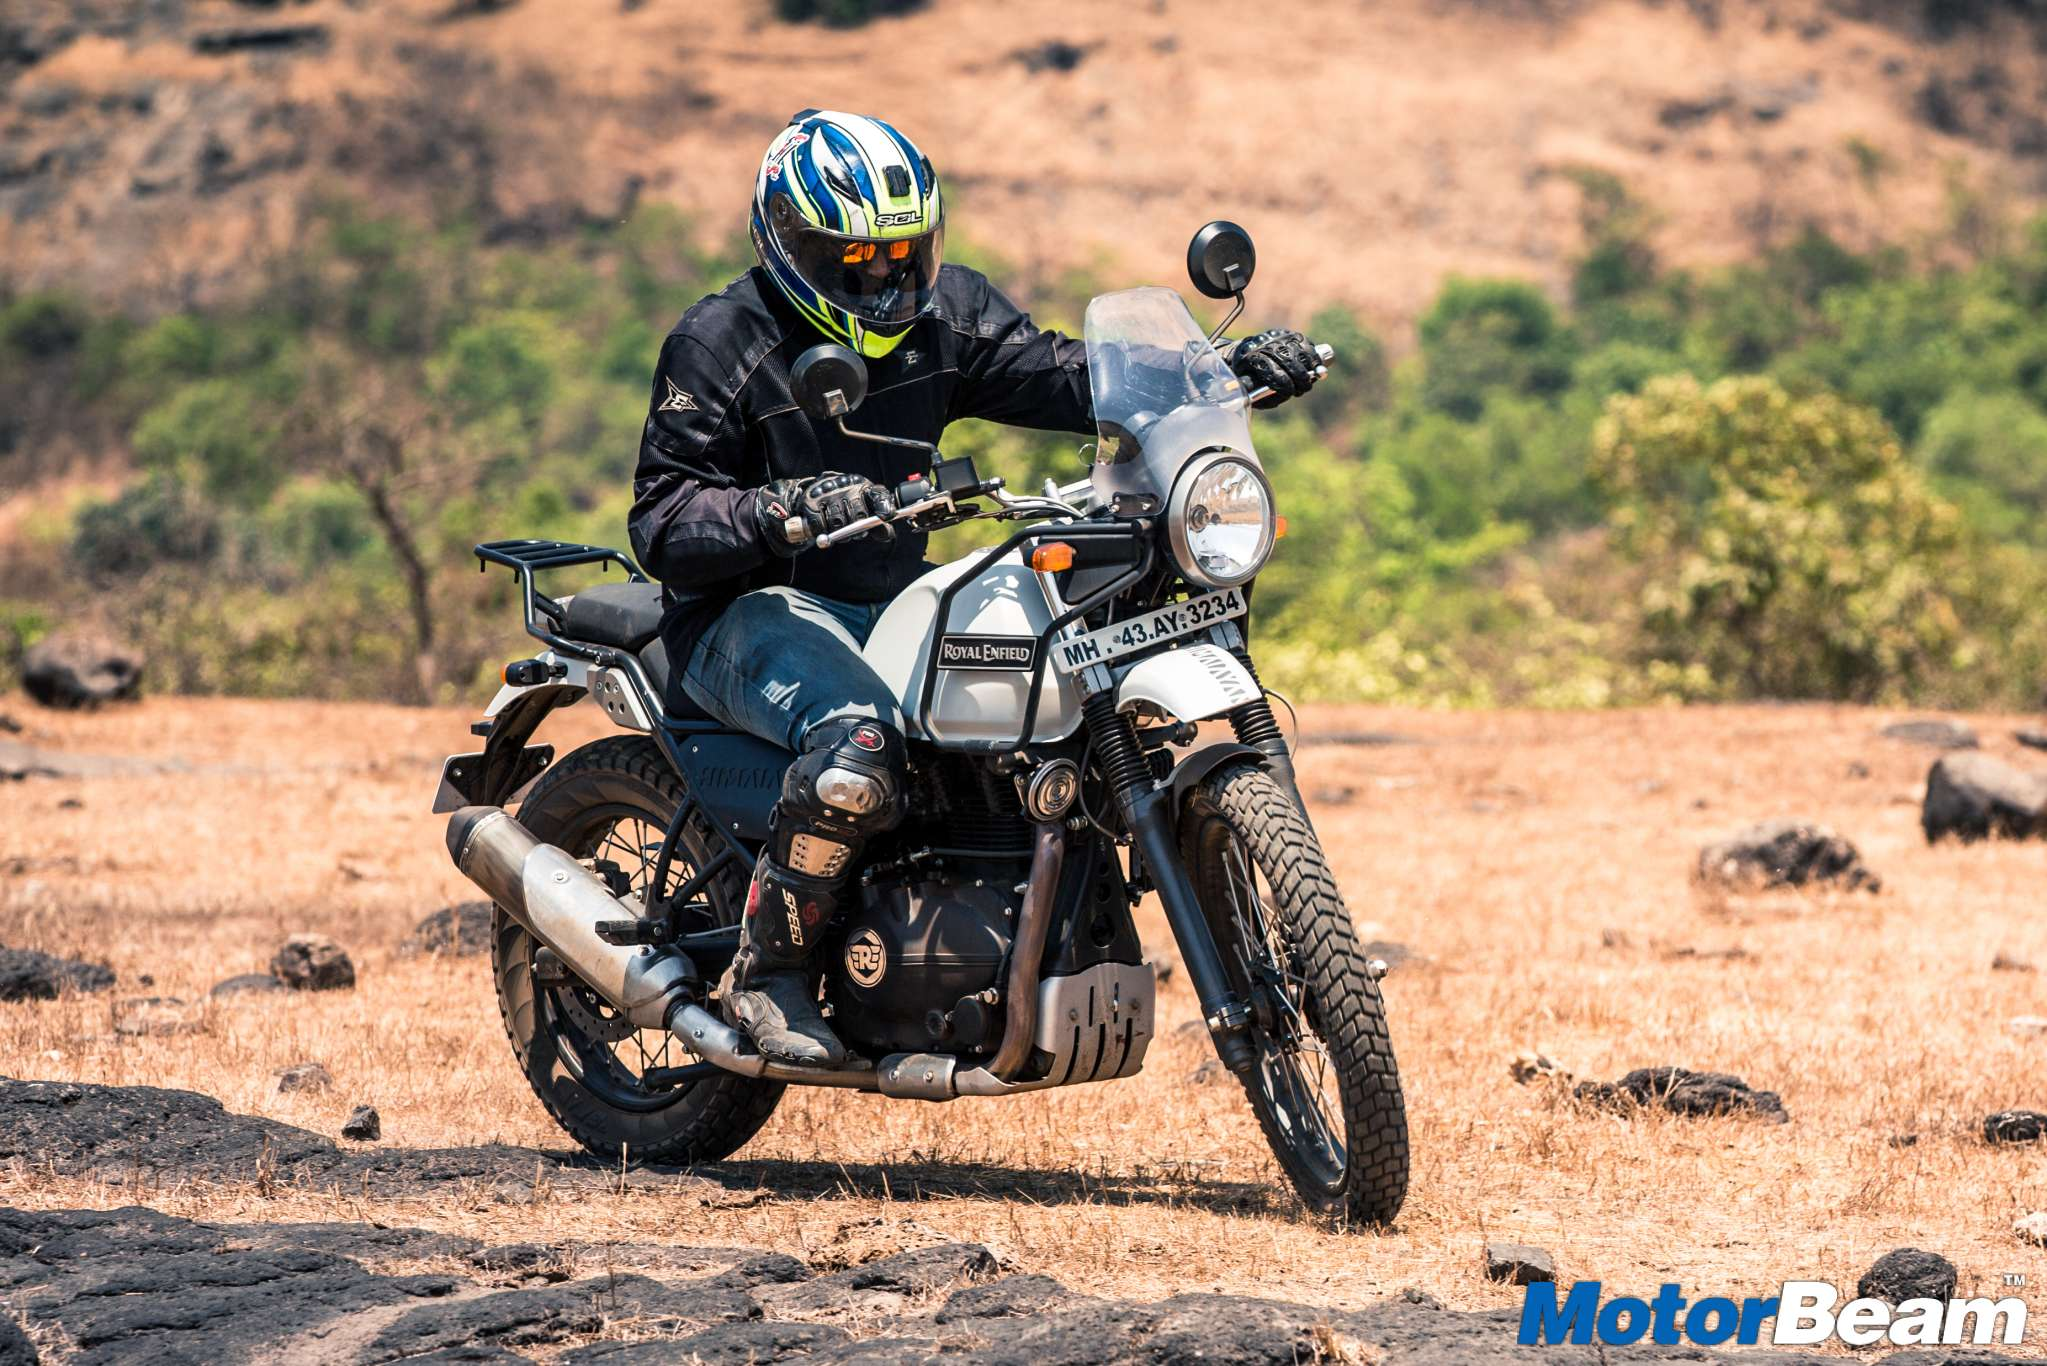helmet: (753, 82, 969, 351)
